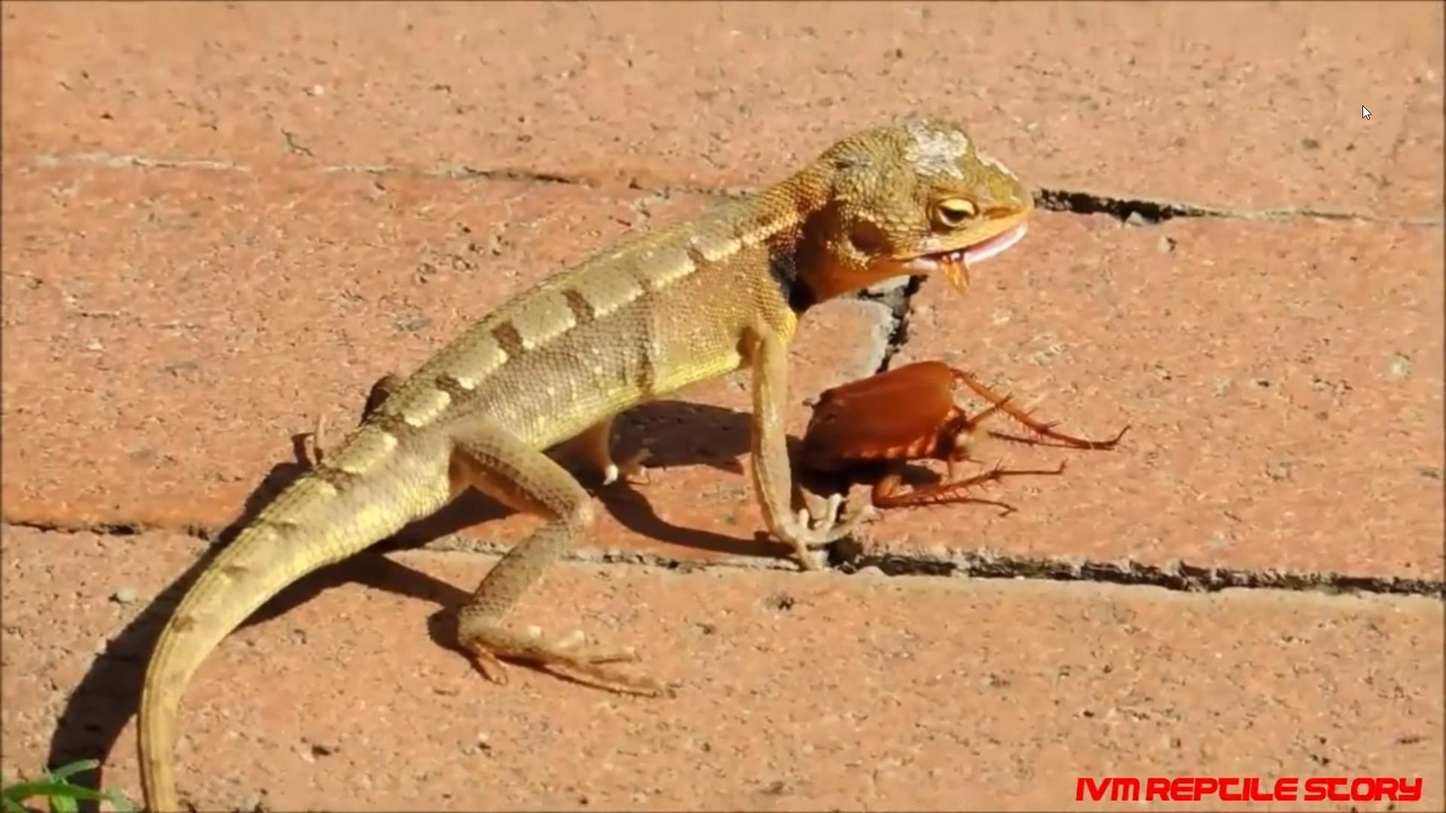cockroach: (799, 352, 1022, 521)
lizard: (243, 117, 1040, 714)
